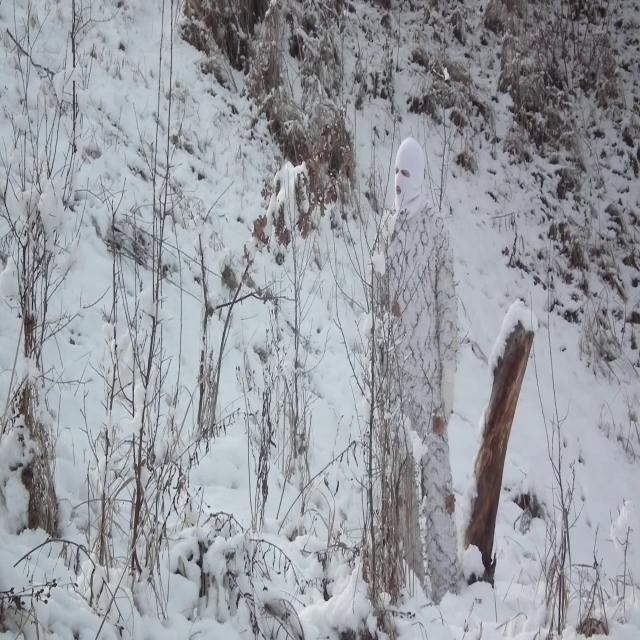camouflaged: (386, 136, 458, 563)
